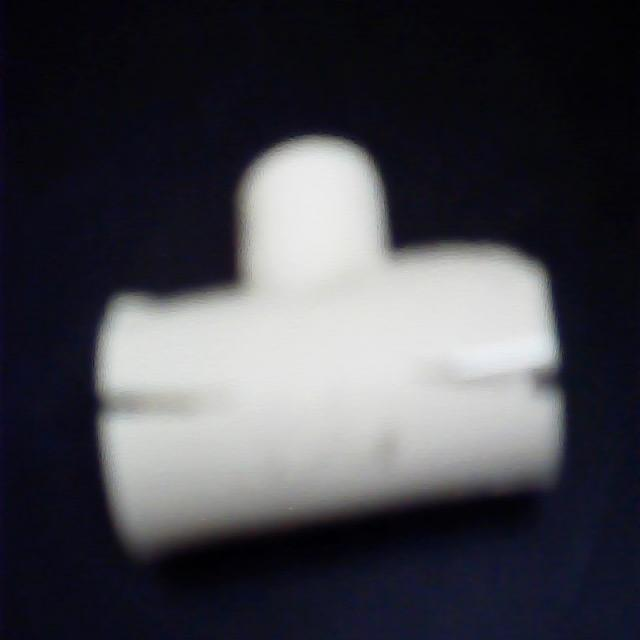Defective: (98, 364, 284, 452), (423, 330, 579, 425)
T Joint: (93, 134, 567, 566)
